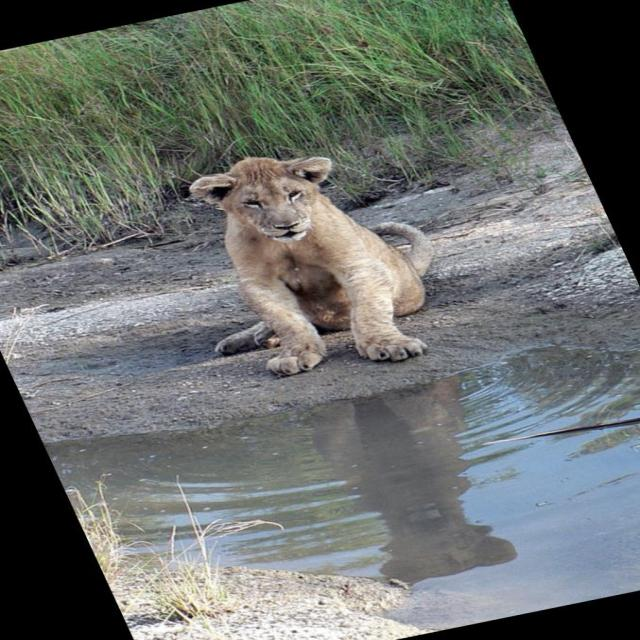Lion: (134, 131, 478, 395)
